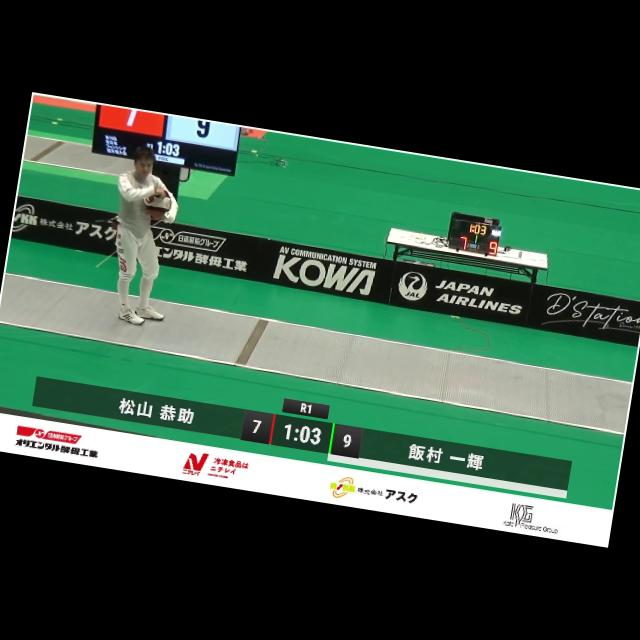blade: (92, 205, 173, 282)
